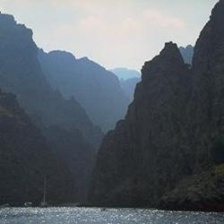neutral: (2, 12, 223, 216)
